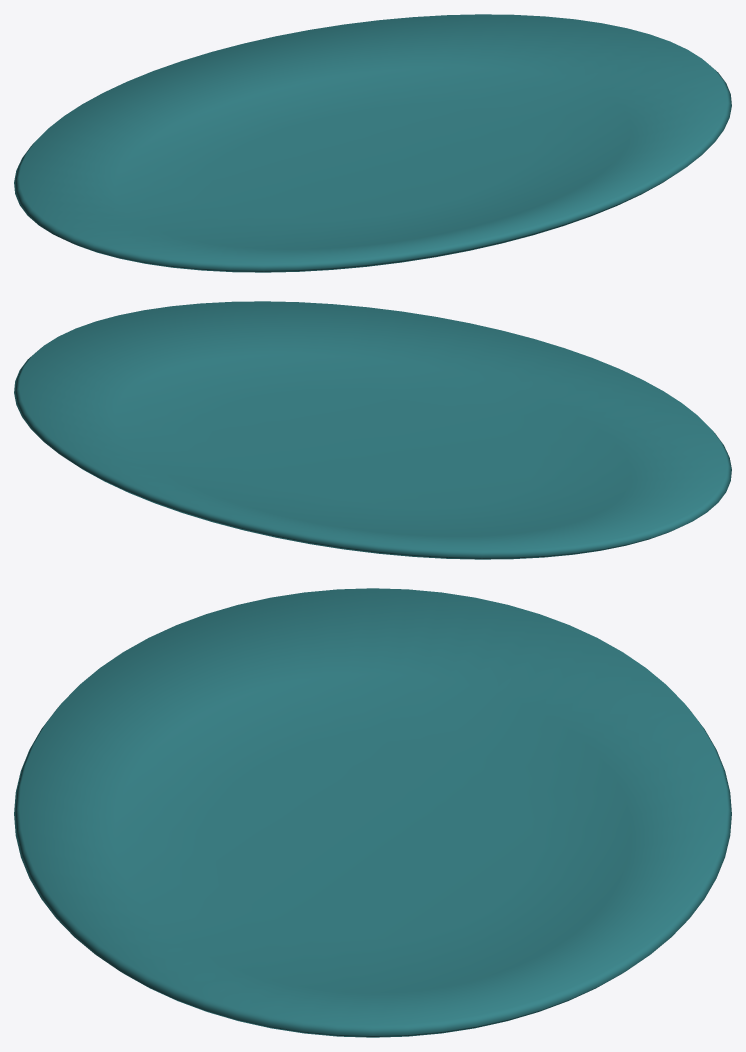
The model's file is universal-serving-platter.glb.
3 renders of one model, top to bottom at view 1: azimuth 30°, elevation 25°; view 2: azimuth 150°, elevation 25°; view 3: azimuth 270°, elevation 25°, orthographic. The views are drawn at different scales.
Visible parts, largest first — view 1: Open oval serving platter; view 2: Open oval serving platter; view 3: Open oval serving platter.
Part boxes in pixels (bbox=[...]): Open oval serving platter: bbox=[14, 14, 731, 272]; Open oval serving platter: bbox=[14, 301, 731, 559]; Open oval serving platter: bbox=[14, 588, 731, 1037].
Bounding box in the file's own units: 0.38 × 0.0195 × 0.26.
Materials: 1 (1 with a texture image).
